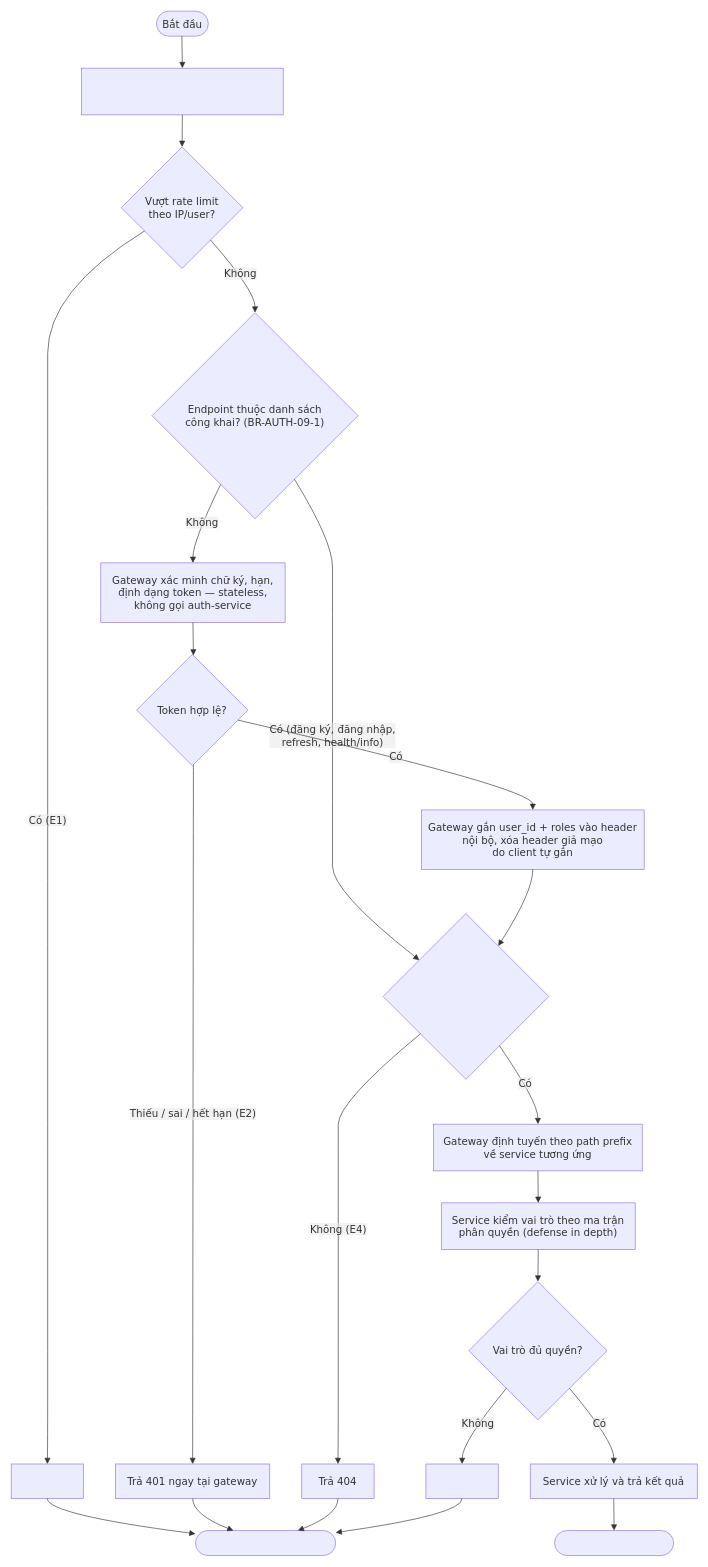
The diagram is 708 pixels wide and 1567 high, and some of its shapes have lost their labels. Each missing label, with the box of its shape:
Client gọi API kèm Authorization: Bearer access_token: (81, 68, 283, 115)
Kết thúc — request bị chặn: (195, 1530, 336, 1556)
Kết thúc — thành công: (554, 1530, 674, 1556)
Path khớp route nào?: (382, 913, 549, 1079)
Trả 403: (425, 1463, 498, 1499)
Trả 429: (11, 1463, 84, 1499)
